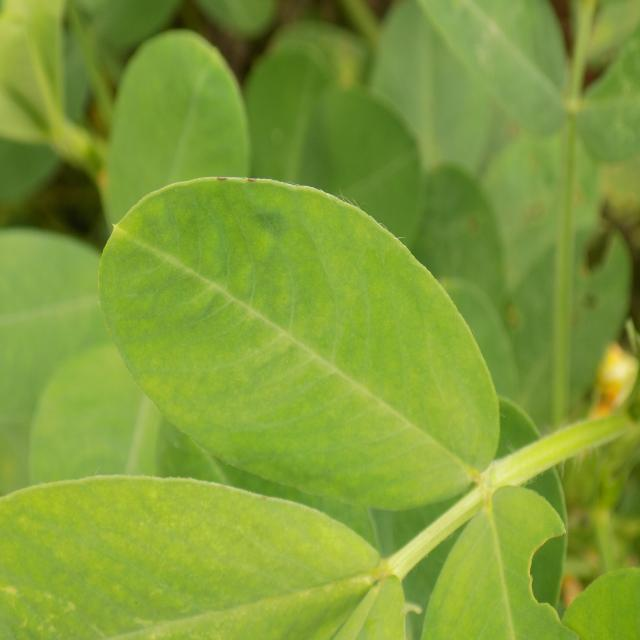Ground nut_healthy: (95, 175, 504, 512)
